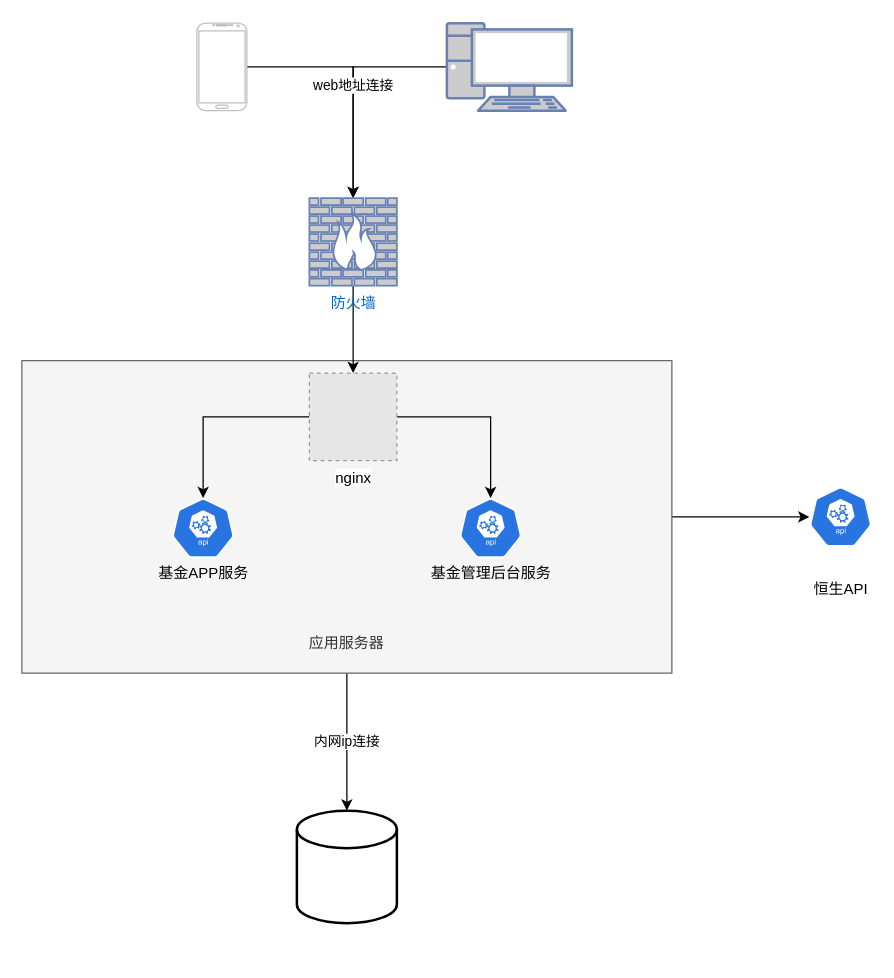
The diagram is 894 pixels wide and 978 high, and some of its shapes have lost their labels. Grey dashed boxes stand in for pictures. Here are the shapes that lost their labels. From the top down, the centre of each, then its label:
At [221,66]: "移动端".
At [508,66]: "电脑端".
At [346,866]: "数据库服务器".
